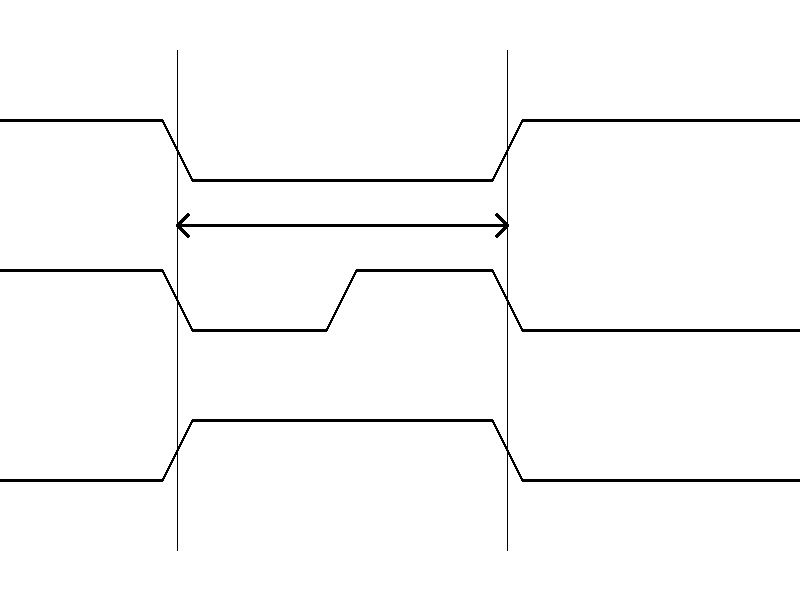double_arrow: (177, 210, 507, 240)
